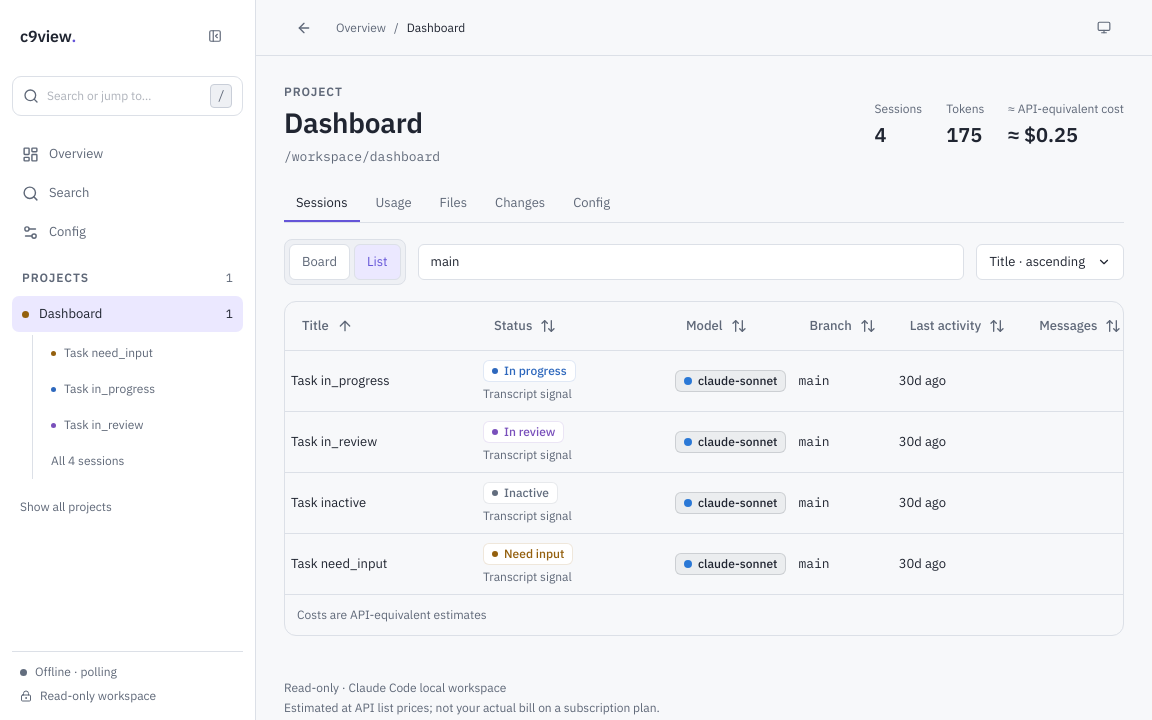
Test: dashboard › shares filtering and sorting between Board and List and round-trips their URL state
Later steps or results of the test are not shown.
Click the button "Title" at [381, 326], box top-left (289, 306), bottom-right (473, 346)
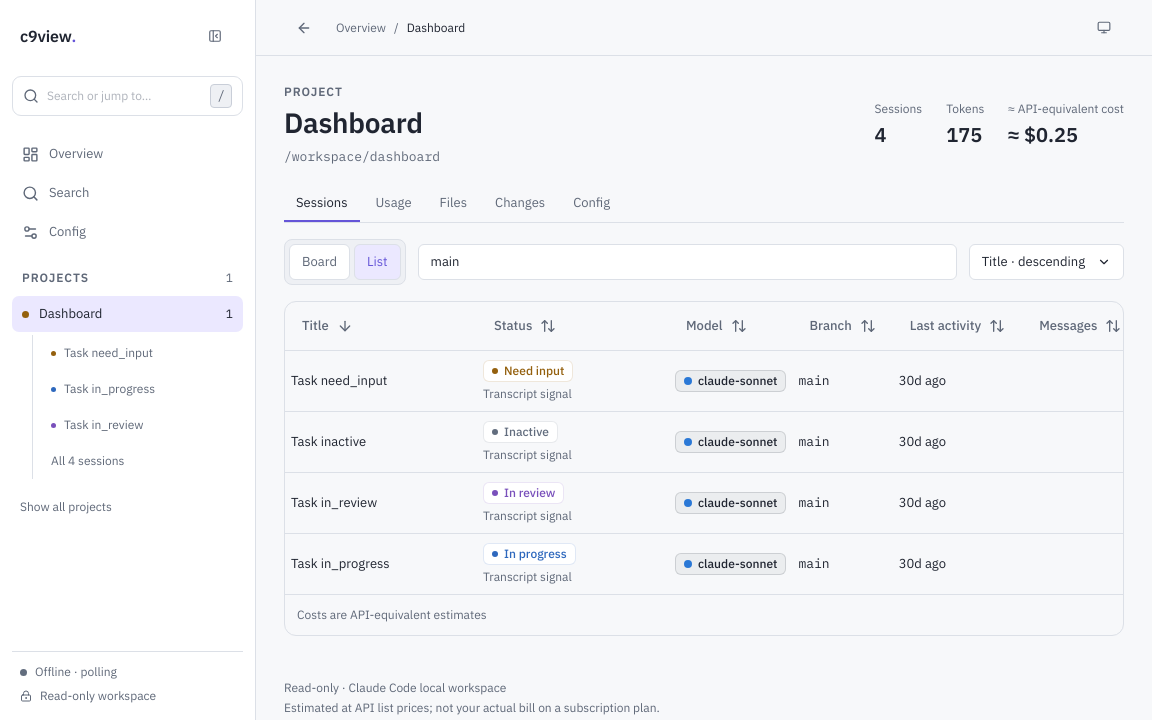
Expected: the row that starts with "Task need_input" is shown, top-left (291, 372), bottom-right (387, 390)
Replace the text in the search field named "Filter sessions" with "need_input" at [687, 262], box top-left (418, 244), bottom-right (957, 280)
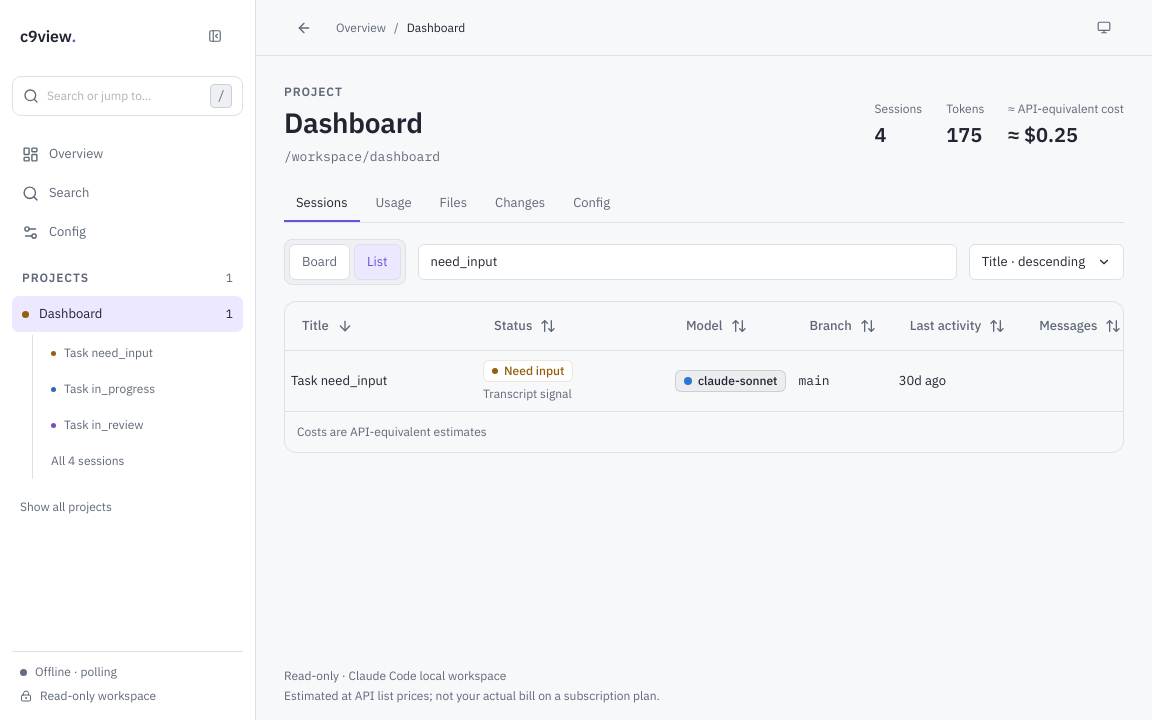
Now the number of rows is 2, box top-left (285, 302), bottom-right (1124, 350); top-left (285, 350), bottom-right (1124, 412)
